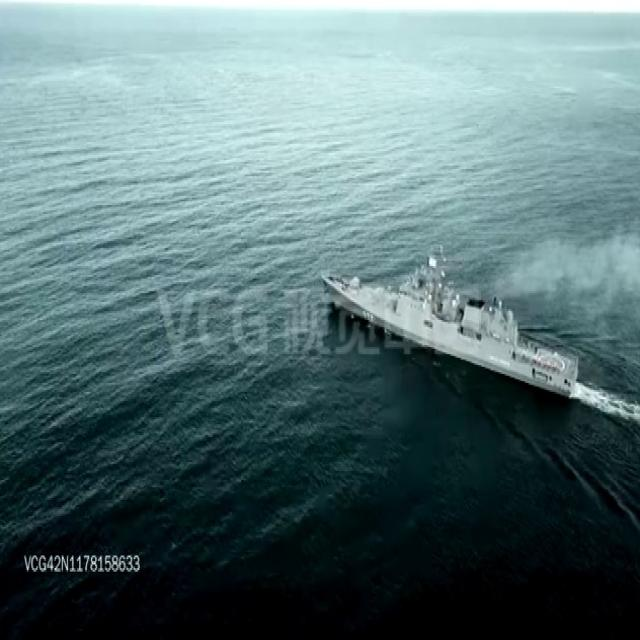navalvessels: (320, 250, 576, 396)
